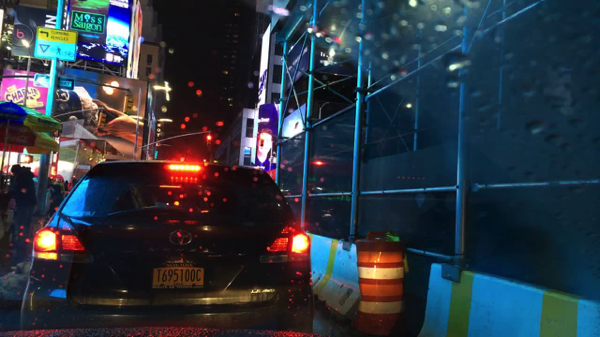car: (18, 159, 316, 333)
person: (1, 163, 38, 267), (48, 184, 62, 216)
traffic light: (205, 132, 213, 148)
traffic sign: (33, 26, 79, 62), (31, 73, 75, 90)
